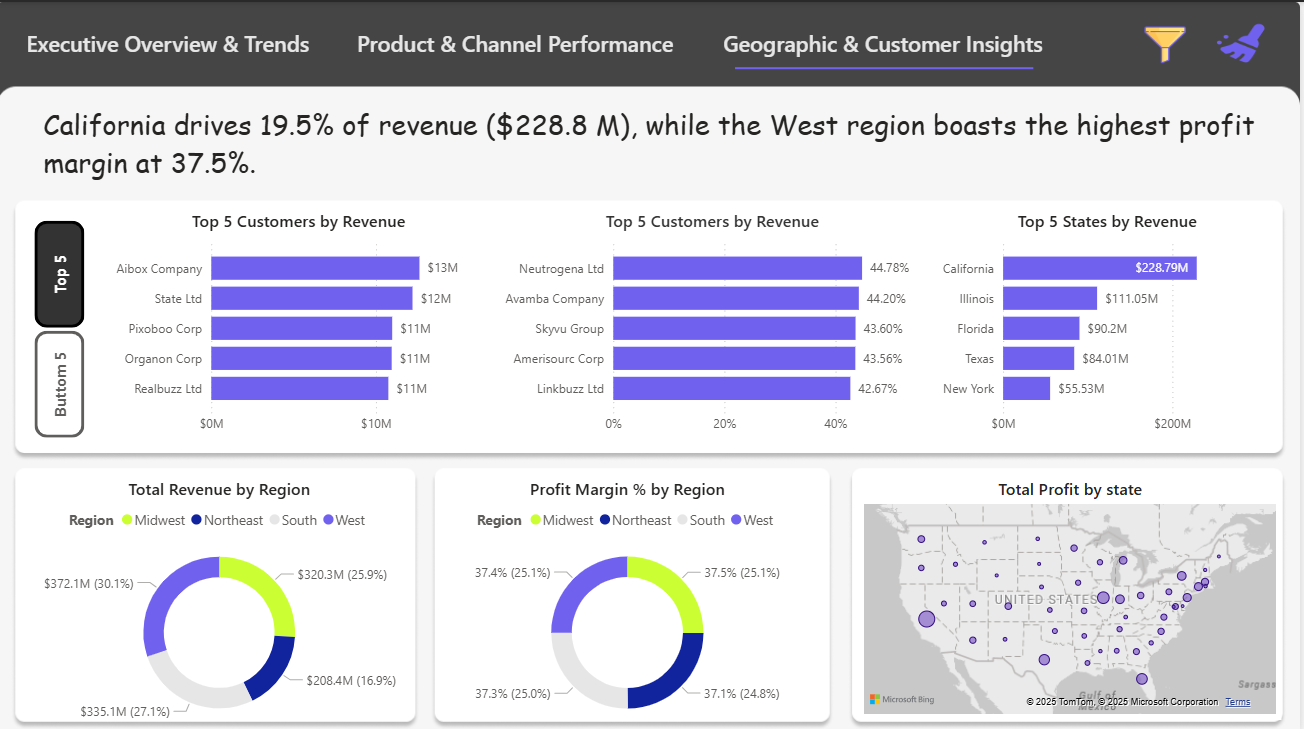

The page's visual inventory and layout, read from the dashboard file:
{"tool":"powerbi","page":{"name":"Geographic & Customer Insights","canvas":[1280,720],"ordinal":3},"visuals":[{"type":"barChart","title":"Top 5 States by Revenue","fields":{"Category":["Sales_data.state_name"],"Y":["Measures_.Total Revenue"]},"box":[917,203.4,344.1,228.8],"z":0,"group":"g2"},{"type":"actionButton","box":[37,215,49,105],"z":0,"group":"g1"},{"type":"donutChart","title":"Total Revenue by Region","fields":{"Category":["Sales_data.us_region"],"Y":["Measures_.Total Revenue"]},"box":[20.3,466.1,394.9,254.2],"z":0},{"type":"barChart","title":"Top 5 Customers by Revenue","fields":{"Category":["Sales_data.customer_name"],"Y":["Measures_.Profit Margin %"]},"box":[486.5,203.4,430.5,228.8],"z":1000,"group":"g2"},{"type":"actionButton","box":[36.7,323.3,49,105],"z":1000,"group":"g1"},{"type":"donutChart","title":"Profit Margin % by Region","fields":{"Category":["Sales_data.us_region"],"Y":["Measures_.Profit Margin %"]},"box":[415.3,466.1,408.5,254.2],"z":1000},{"type":"actionButton","box":[337.2,14.1,342.3,55.1],"z":2000},{"type":"barChart","title":"Top 5 Customers by Revenue","fields":{"Category":["Sales_data.customer_name"],"Y":["Measures_.Total Revenue"]},"box":[105.1,203.4,381.4,228.8],"z":2000,"group":"g2"},{"type":"actionButton","box":[9,14.1,317.9,55.1],"z":3000},{"type":"actionButton","box":[702.6,14.1,333.3,55.1],"z":4000},{"type":"group","id":"g1","title":"top 5 button","box":[36.7,215,48.3,213.3],"z":6000},{"type":"map","fields":{"Category":["Sales_data.state"],"Size":["Measures_.Total Profit"]},"box":[846.9,465.7,413.8,237.7],"z":7000},{"type":"group","id":"g2","title":"top 5","box":[105.1,203.4,1155.9,228.8],"z":9000},{"type":"textbox","title":"Top Text","box":[40,96.2,1222.5,120],"z":11000},{"type":"actionButton","box":[1188,14,70,55],"z":12000},{"type":"actionButton","box":[1120,21,53,42],"z":13000}]}

Visuals, with their boxes in screenshot pixels (x1, y1, x2, y2), scaled from the page's 1280x720 canvas onto the 1304x729 screenshot:
"Top 5 States by Revenue" barChart: locate(934, 206, 1285, 438)
actionButton: locate(38, 218, 88, 324)
"Total Revenue by Region" donutChart: locate(21, 472, 423, 728)
"Top 5 Customers by Revenue" barChart: locate(496, 206, 934, 438)
actionButton: locate(37, 327, 87, 434)
"Profit Margin % by Region" donutChart: locate(423, 472, 839, 728)
actionButton: locate(344, 14, 692, 70)
"Top 5 Customers by Revenue" barChart: locate(107, 206, 496, 438)
actionButton: locate(9, 14, 333, 70)
actionButton: locate(716, 14, 1055, 70)
"top 5 button" group: locate(37, 218, 87, 434)
map - Sales_data.state x Measures_.Total Profit: locate(863, 472, 1284, 712)
"top 5" group: locate(107, 206, 1285, 438)
"Top Text" textbox: locate(41, 97, 1286, 219)
actionButton: locate(1210, 14, 1282, 70)
actionButton: locate(1141, 21, 1195, 64)
